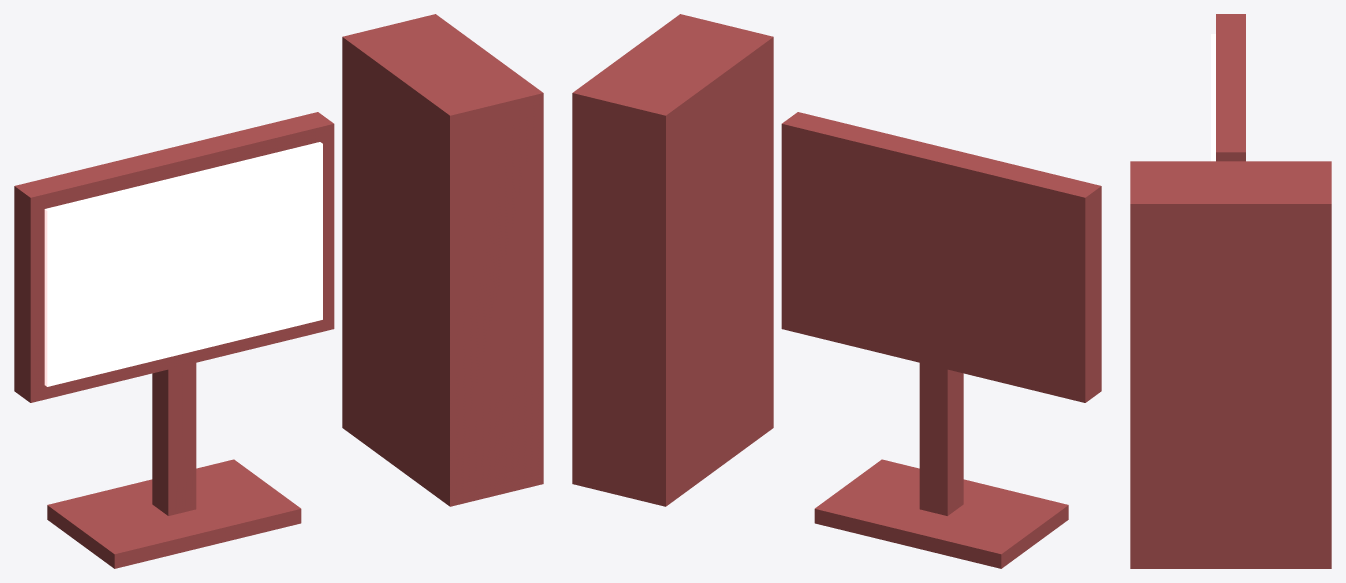
The model's file is computer10.glb.
3 renders of one model, left to right at view 1: azimuth 30°, elevation 25°; view 2: azimuth 150°, elevation 25°; view 3: azimuth 270°, elevation 25°, orthographic. The views are drawn at different scales.
Size of the model in its own units: 1 by 0.8 by 0.4.
